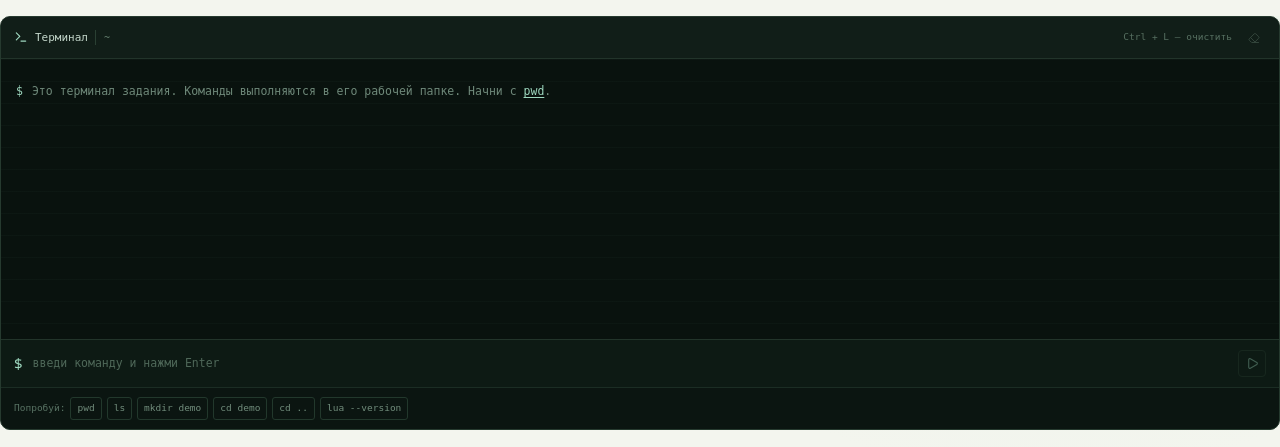
Test case: TerminalPanel › runs a command and shows output
This screenshot has width=1280, height=447.
Type "echo hello" into the field named "Команда терминала" at (630, 364), box [31,354,1230,373]
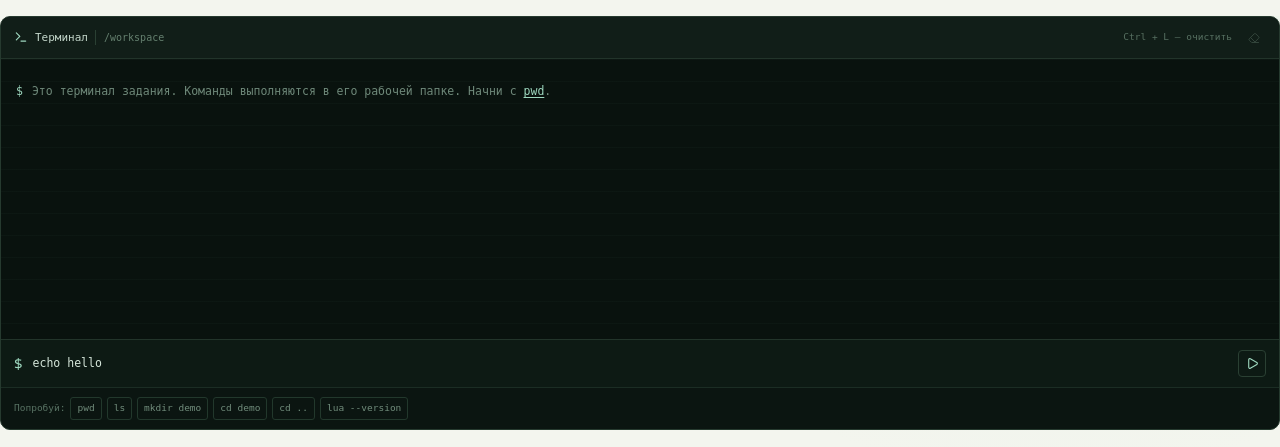
Press Enter in the field named "Команда терминала", box [31,354,1230,373]
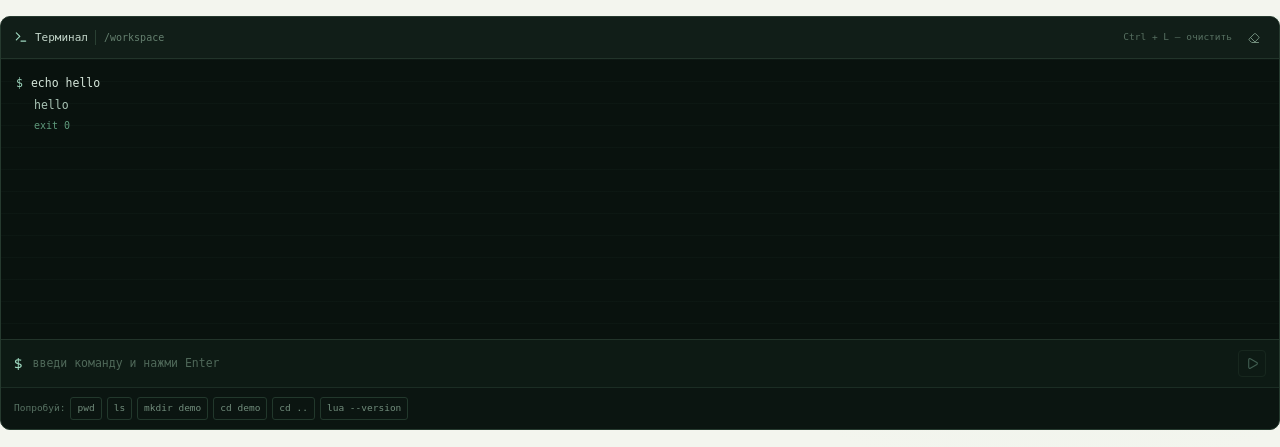
Check: the text "hello" is shown, box [34,98,69,112]
